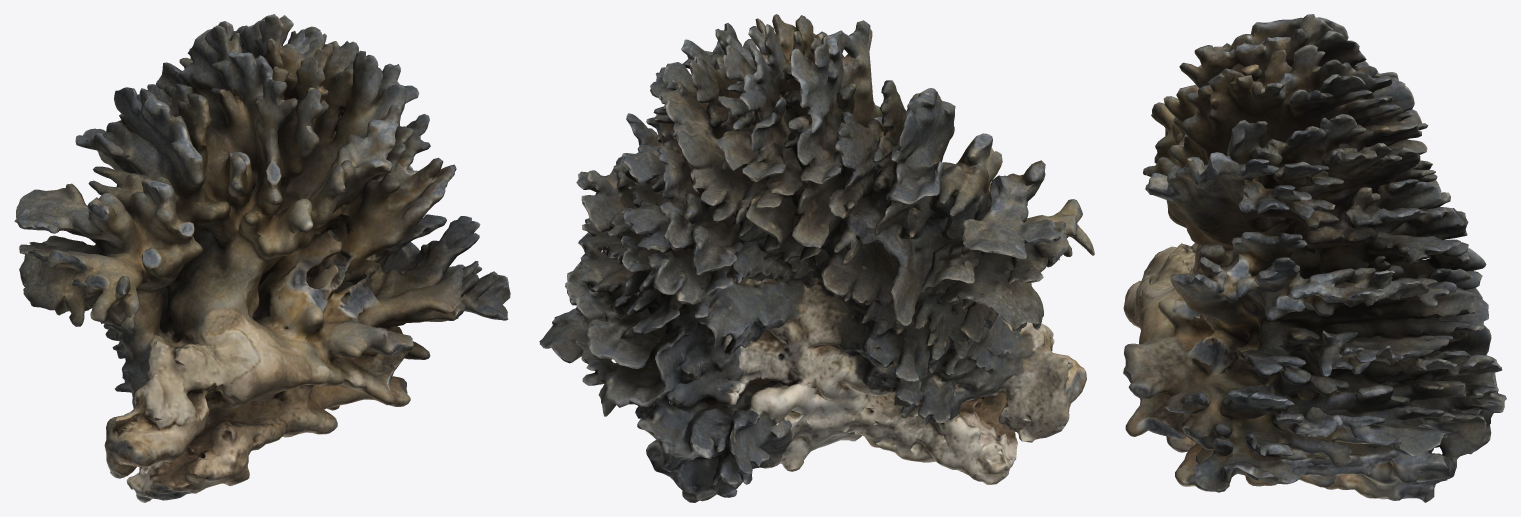
Rendered from heliopora.glb.
The picture shows the model from 3 angles, left to right: view 1: azimuth 30°, elevation 25°; view 2: azimuth 150°, elevation 25°; view 3: azimuth 270°, elevation 25°; orthographic projection. The views are drawn at different scales.
Parts seen in each view (by area): view 1: Object_4, Object_5; view 2: Object_4, Object_5; view 3: Object_4, Object_5.
Boxes of the visible parts, x1,y1,x2,y2 form: Object_4: (15,14,510,502); Object_5: (14,14,508,496); Object_4: (539,14,1094,502); Object_5: (539,14,1073,501); Object_4: (1123,14,1506,502); Object_5: (1123,29,1503,490).
Bounding box in the file's own units: 0.4404 × 0.3759 × 0.2854.
1 material, 1 textured.
